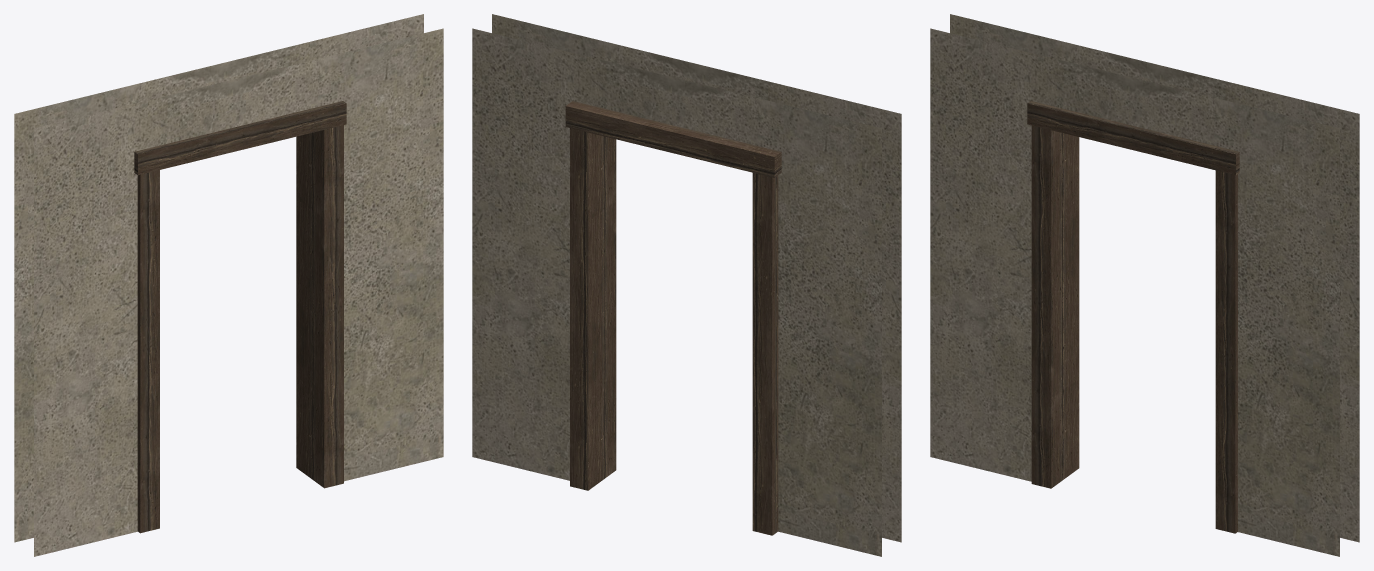
File: ARC1010270.fbx
3 renders of one model, left to right at view 1: azimuth 30°, elevation 25°; view 2: azimuth 150°, elevation 25°; view 3: azimuth 330°, elevation 25°, orthographic.
Parts seen in each view (by area): view 1: smARC1010270; view 2: smARC1010270; view 3: smARC1010270.
Part boxes in pixels (x1,y1,x2,y2): smARC1010270: (14,14,443,556); smARC1010270: (472,14,901,556); smARC1010270: (930,14,1359,556).
Size of the model in its own units: 268 by 268 by 34.27.
1 material, 1 textured.
